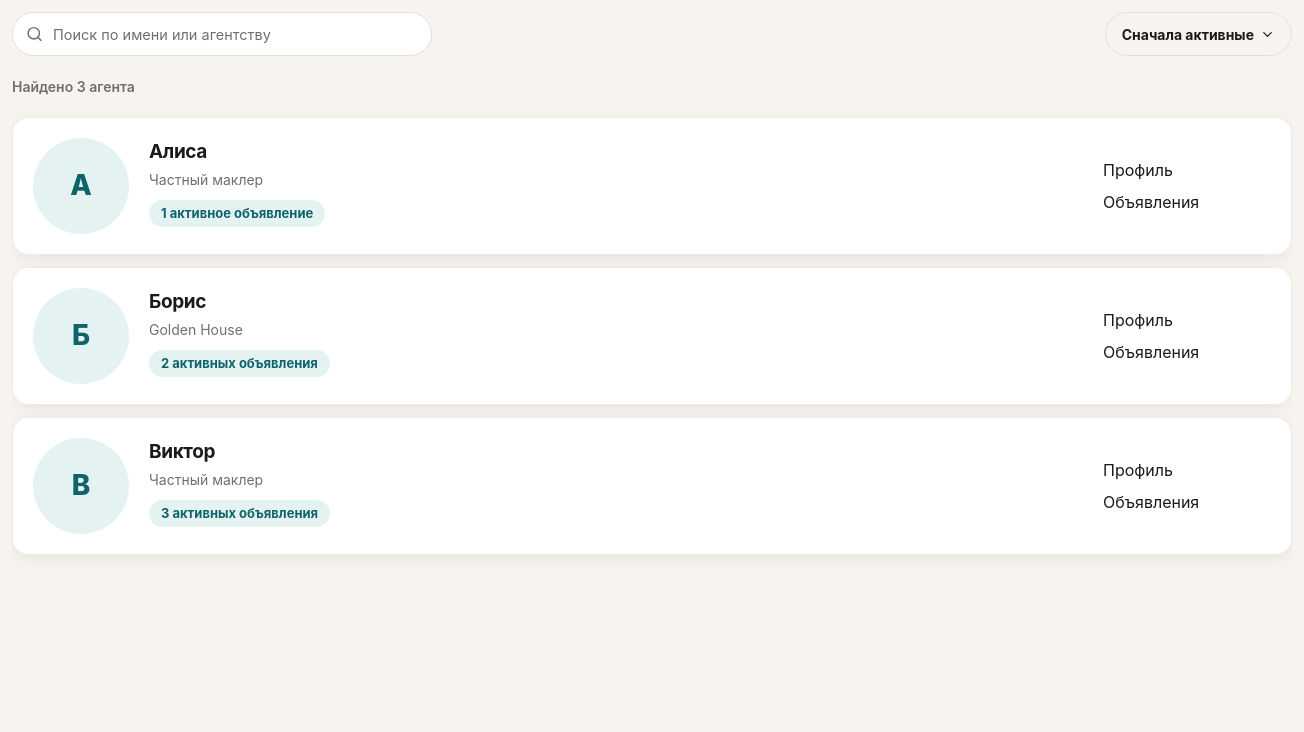
Test: AgentsCatalog › поиск фильтрует по имени и агентству и обновляет счётчик
Check: the text "Найдено 3 агента" is shown, box top-left (12, 78), bottom-right (135, 95)
Type "golden" into the search field at [222, 34], box top-left (12, 12), bottom-right (432, 56)
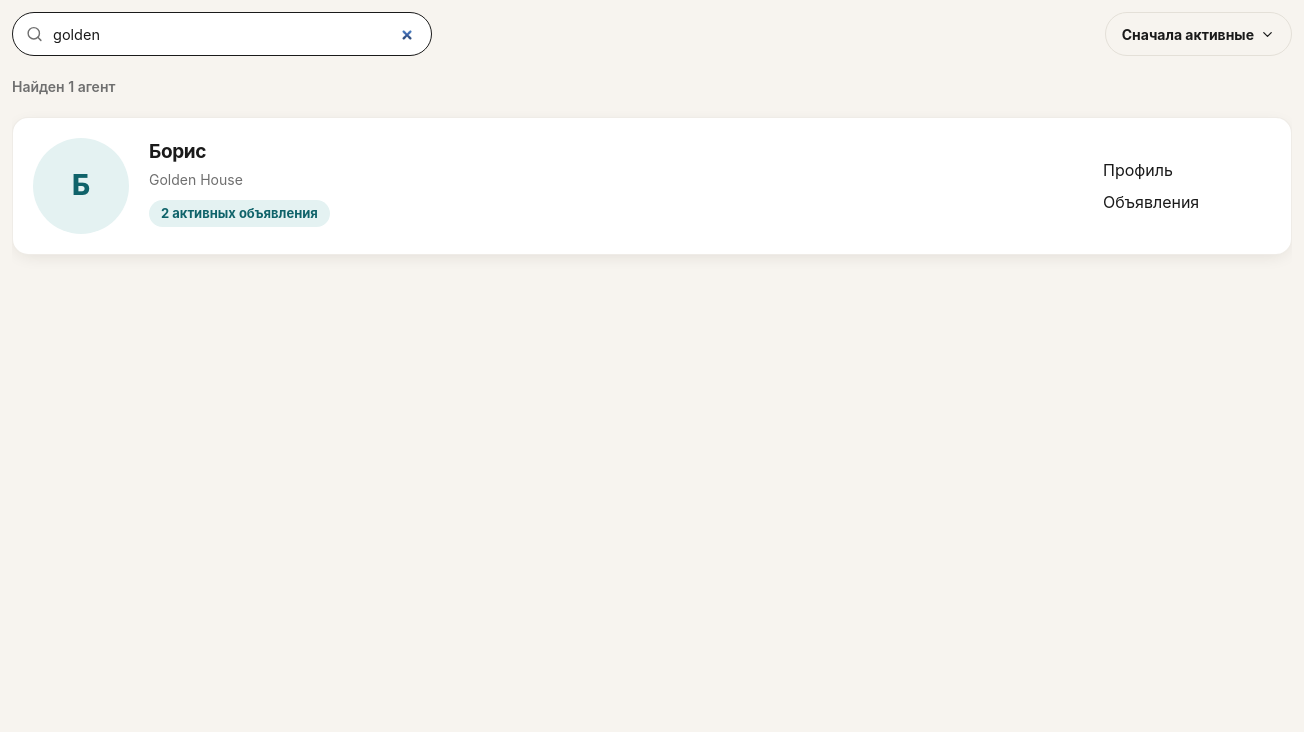
Check: the text "Найден 1 агент" is shown, box top-left (12, 78), bottom-right (115, 95)
